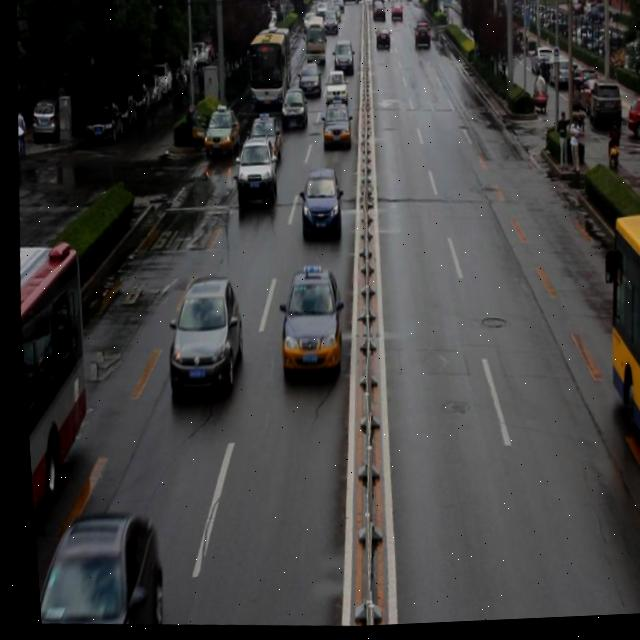car: (27, 511, 159, 627), (160, 279, 244, 399), (272, 268, 344, 381), (230, 136, 278, 213), (295, 169, 343, 242), (242, 114, 281, 172), (201, 104, 241, 159), (318, 104, 351, 153), (277, 87, 306, 131), (321, 72, 348, 111), (294, 65, 321, 102)
van: (13, 239, 96, 529), (583, 204, 640, 513), (244, 24, 295, 116)
